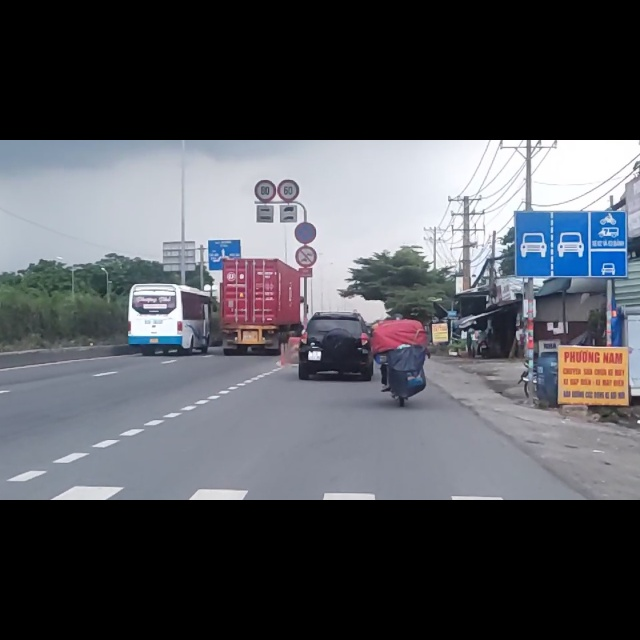bien_chi_dan: (514, 124, 627, 245), (277, 69, 301, 110), (293, 145, 318, 184), (255, 71, 275, 110), (296, 188, 317, 225)
